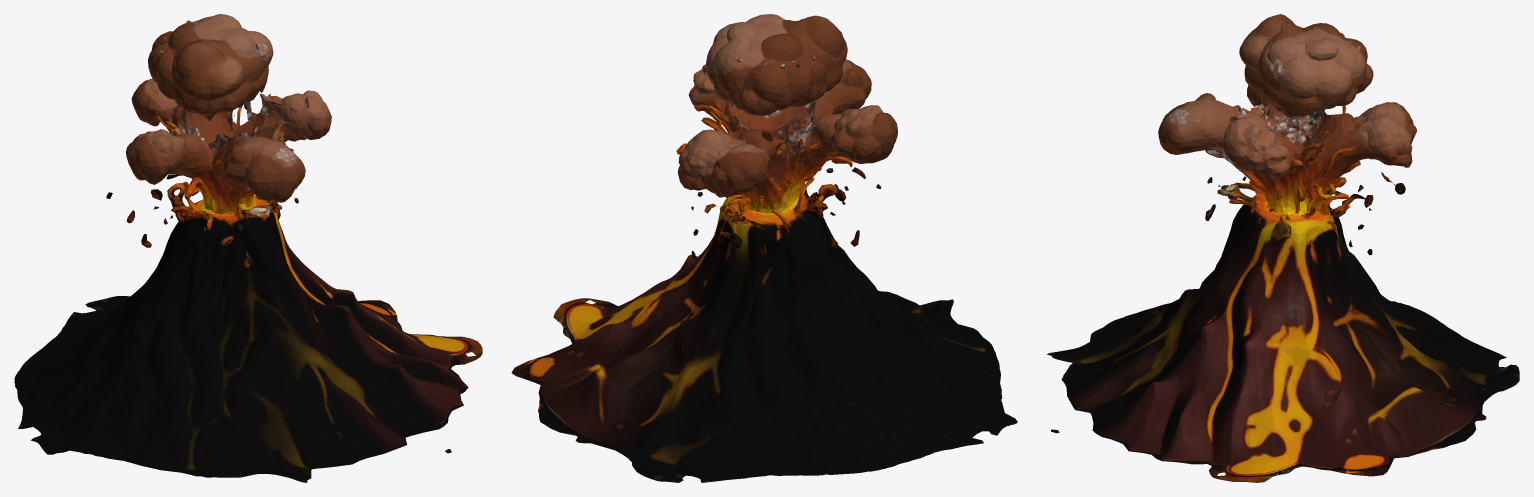
File: volcan.glb
The picture shows the model from 3 angles, left to right: view 1: azimuth 30°, elevation 25°; view 2: azimuth 150°, elevation 25°; view 3: azimuth 270°, elevation 25°; orthographic projection. The views are drawn at different scales.
Visible parts, largest first — view 1: world; view 2: world; view 3: world.
Part boxes in pixels (x1,y1,x2,y2): world: (14,14,482,482); world: (511,14,1017,482); world: (1047,14,1519,482).
Size of the model in its own units: 0.7003 by 0.5551 by 0.681.
Materials: 1 (1 with a texture image).
